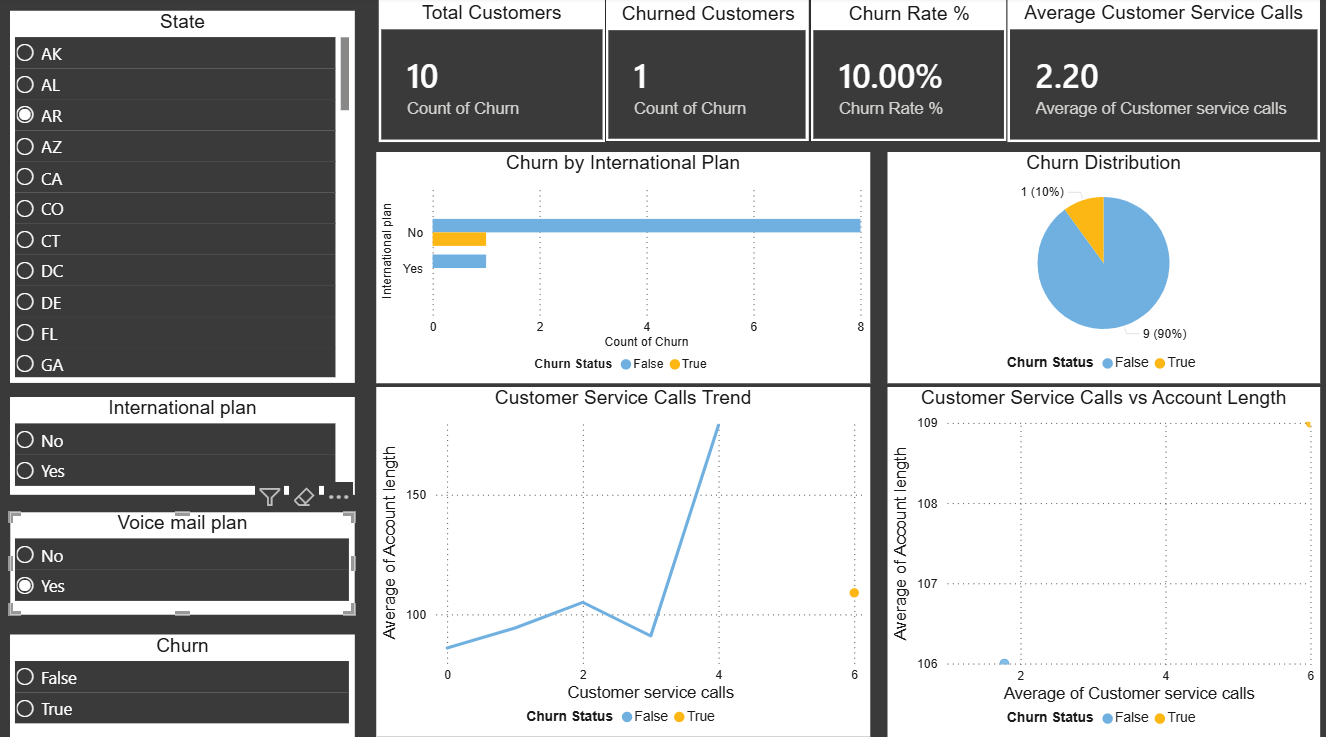

Layout of this report page (visuals, bound fields, positions):
{"tool":"powerbi","page":{"name":"Page 1","canvas":[1280,720],"ordinal":0},"visuals":[{"type":"cardVisual","title":"Total Customers","fields":{"Data":["CountNonNull(churn-bigml-80.Churn)"]},"box":[365.6,0,218.4,139.9],"z":0},{"type":"cardVisual","title":"Churned Customers","fields":{"Data":["CountNonNull(churn-bigml-80.Churn)"]},"box":[583.9,0,197.9,139.9],"z":1000},{"type":"cardVisual","title":"Churn Rate %","fields":{"Data":["churn-bigml-80.Churn Rate %"]},"box":[781.8,0,190.6,139.9],"z":2000},{"type":"cardVisual","title":"Average Customer Service Calls","fields":{"Data":["Avg(churn-bigml-80.Customer service calls)"]},"box":[972.4,0,301.6,139.9],"z":3000},{"type":"clusteredBarChart","title":"Churn by International Plan","fields":{"Category":["churn-bigml-80.International plan"],"Y":["CountNonNull(churn-bigml-80.Churn)"],"Series":["churn-bigml-80.Churn"]},"box":[363.1,149.6,476.5,223.2],"z":4000},{"type":"pieChart","title":"Churn Distribution","fields":{"Category":["churn-bigml-80.Churn"],"Y":["CountNonNull(churn-bigml-80.Churn)"]},"box":[856.6,149.6,417.4,223.2],"z":5000},{"type":"lineChart","title":"Customer Service Calls Trend","fields":{"Series":["churn-bigml-80.Churn"],"Category":["churn-bigml-80.Customer service calls"],"Y":["Avg(churn-bigml-80.Account length)"]},"box":[363.1,376.4,476.5,337.8],"z":6000},{"type":"listSlicer","title":"State","fields":{"Values":["churn-bigml-80.State"]},"box":[9.7,13.3,333,359.5],"z":7000},{"type":"scatterChart","title":"Customer Service Calls vs Account Length","fields":{"Series":["churn-bigml-80.Churn"],"Category":["churn-bigml-80.State"],"Y":["Avg(churn-bigml-80.Account length)"],"X":["Avg(churn-bigml-80.Customer service calls)"]},"box":[856.6,376.4,417.4,339],"z":8000},{"type":"listSlicer","title":"Churn","fields":{"Values":["churn-bigml-80.Churn"]},"box":[9.7,615.3,333,98.9],"z":9000},{"type":"listSlicer","title":"Voice mail plan","fields":{"Values":["churn-bigml-80.Voice mail plan"]},"box":[9.7,497.1,333,98.9],"z":10000},{"type":"listSlicer","title":"International plan","fields":{"Values":["churn-bigml-80.International plan"]},"box":[9.7,386.1,333,94.1],"z":10001}]}

Visuals, with their boxes in screenshot pixels (x1, y1, x2, y2), scaled from the page's 1280x720 canvas onto the 1326x737 screenshot:
"Total Customers" cardVisual: (x1=379, y1=0, x2=605, y2=143)
"Churned Customers" cardVisual: (x1=605, y1=0, x2=810, y2=143)
"Churn Rate %" cardVisual: (x1=810, y1=0, x2=1007, y2=143)
"Average Customer Service Calls" cardVisual: (x1=1007, y1=0, x2=1320, y2=143)
"Churn by International Plan" clusteredBarChart: (x1=376, y1=153, x2=870, y2=382)
"Churn Distribution" pieChart: (x1=887, y1=153, x2=1320, y2=382)
"Customer Service Calls Trend" lineChart: (x1=376, y1=385, x2=870, y2=731)
"State" listSlicer: (x1=10, y1=14, x2=355, y2=382)
"Customer Service Calls vs Account Length" scatterChart: (x1=887, y1=385, x2=1320, y2=732)
"Churn" listSlicer: (x1=10, y1=630, x2=355, y2=731)
"Voice mail plan" listSlicer: (x1=10, y1=509, x2=355, y2=610)
"International plan" listSlicer: (x1=10, y1=395, x2=355, y2=492)
